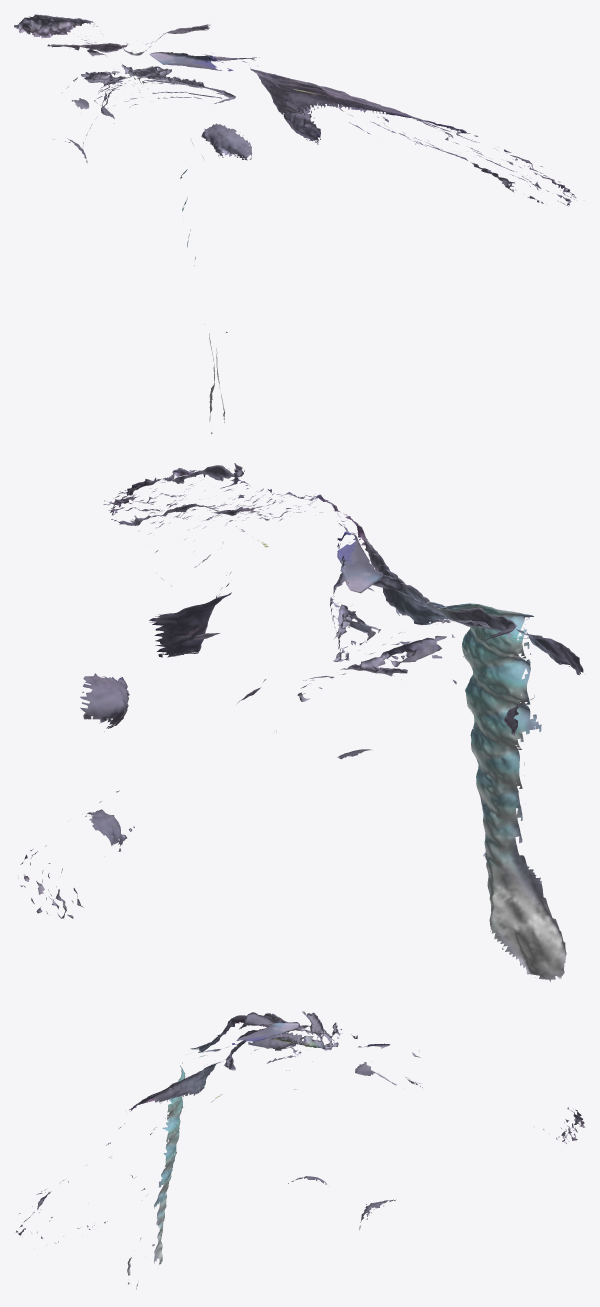
Rendered from collider.glb.
3 renders of one model, top to bottom at view 1: azimuth 30°, elevation 25°; view 2: azimuth 150°, elevation 25°; view 3: azimuth 270°, elevation 25°, orthographic. The views are drawn at different scales.
Visible parts, largest first — view 1: world; view 2: world; view 3: world.
Part boxes in pixels (left/top/right/bottom): world: left=14, top=14, right=576, bottom=433; world: left=18, top=463, right=583, bottom=982; world: left=16, top=1011, right=585, bottom=1289.
Bounding box in the file's own units: 66.2 × 50.58 × 91.38.
